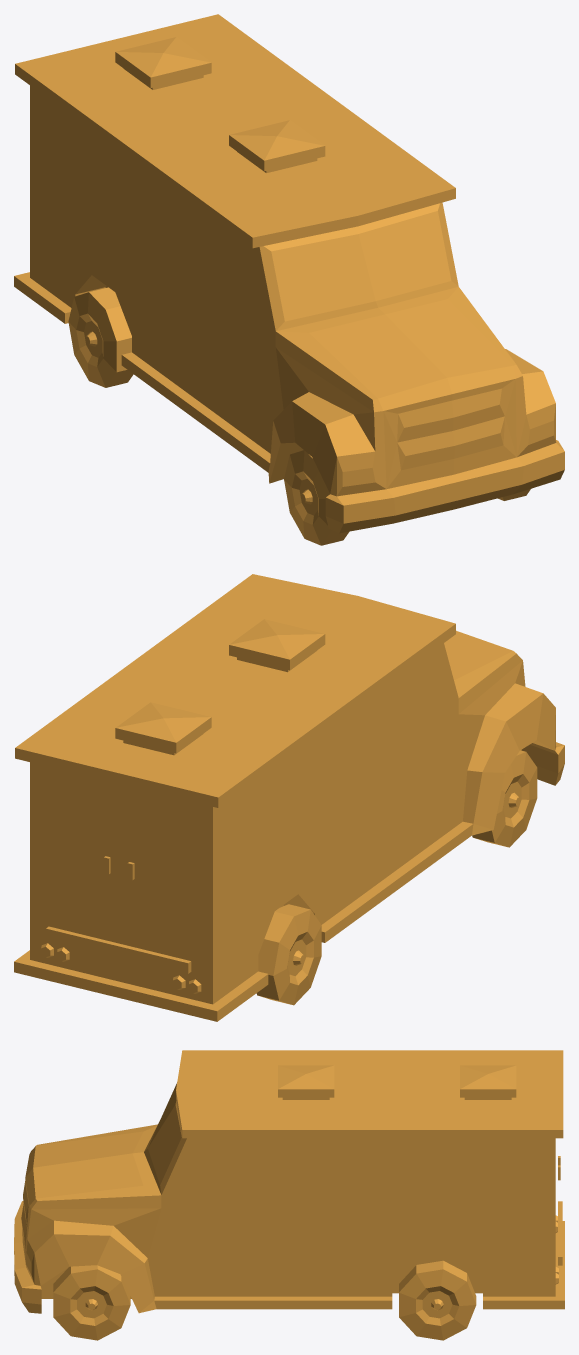
The model's file is armored-truck.glb.
3 renders of one model, top to bottom at view 1: azimuth 30°, elevation 25°; view 2: azimuth 150°, elevation 25°; view 3: azimuth 270°, elevation 25°, orthographic. The views are drawn at different scales.
Visible parts, largest first — view 1: armored-truck-base, armored-truck-wheel_BR, armored-truck-wheel_FR; view 2: armored-truck-base, armored-truck-wheel_BR, armored-truck-wheel_FR; view 3: armored-truck-base, armored-truck-wheel_BL, armored-truck-wheel_FL.
Boxes of the visible parts, bbox=[...] form: armored-truck-base: bbox=[14, 14, 564, 533]; armored-truck-wheel_BR: bbox=[68, 287, 133, 387]; armored-truck-wheel_FR: bbox=[284, 450, 348, 545]; armored-truck-base: bbox=[14, 574, 564, 1021]; armored-truck-wheel_BR: bbox=[256, 904, 321, 1005]; armored-truck-wheel_FR: bbox=[472, 750, 537, 847]; armored-truck-base: bbox=[14, 1050, 564, 1313]; armored-truck-wheel_BL: bbox=[399, 1260, 476, 1340]; armored-truck-wheel_FL: bbox=[53, 1265, 130, 1340].
Bounding box in the file's own units: 2.29 × 2.66 × 5.85.
